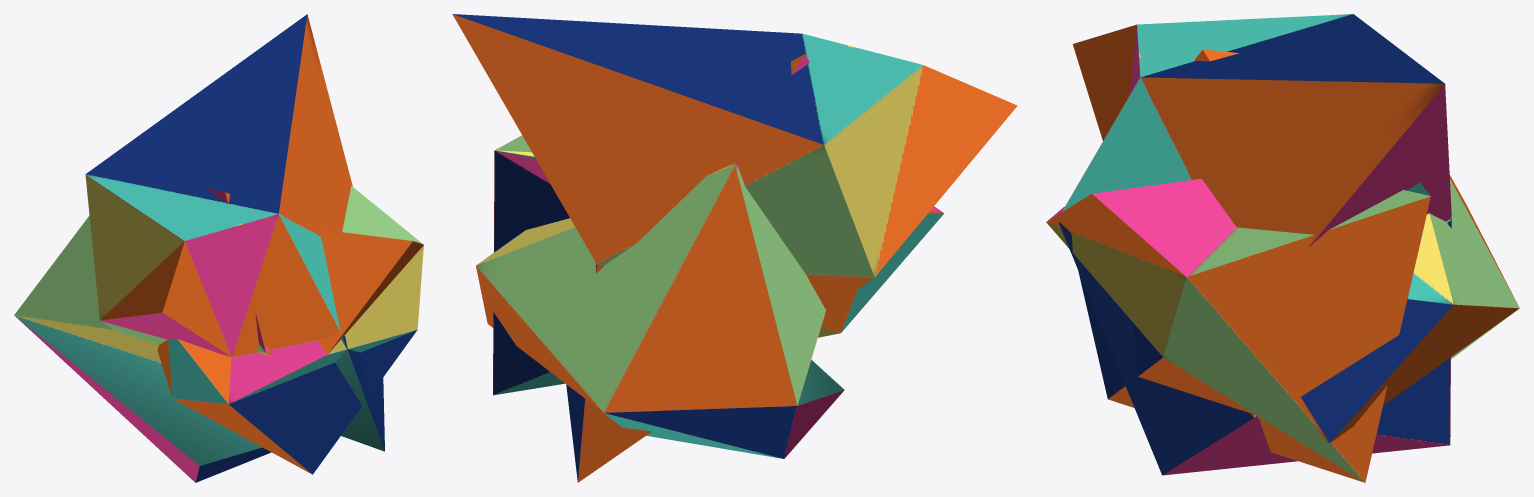
Rendered from nft.glb.
3 views of the same model, side by side, from view 1: azimuth 30°, elevation 25°; view 2: azimuth 150°, elevation 25°; view 3: azimuth 270°, elevation 25° (orthographic). The views are drawn at different scales.
Parts seen in each view (by area): view 1: Mball.012, Mball.002, Mball.001; view 2: Mball.012, Mball.001, Mball.002; view 3: Mball.012, Mball.002, Mball.001.
Boxes of the visible parts, x1,y1,x2,y2 form: Mball.012: [85, 14, 384, 451]; Mball.002: [157, 186, 423, 474]; Mball.001: [14, 187, 271, 482]; Mball.012: [452, 14, 1017, 482]; Mball.001: [476, 54, 844, 458]; Mball.002: [493, 135, 943, 395]; Mball.012: [1058, 14, 1451, 475]; Mball.002: [1046, 178, 1430, 482]; Mball.001: [1194, 49, 1519, 443].
Bounding box in the file's own units: 3.14 × 3.46 × 3.34.
1 material, 1 textured.
